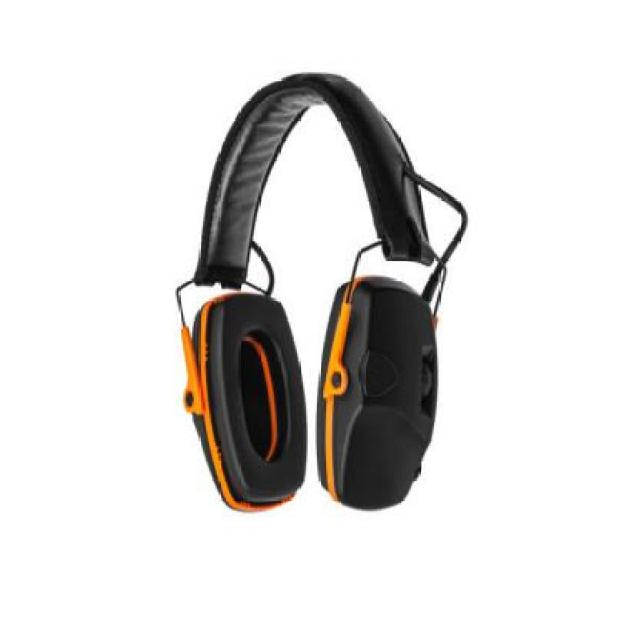Ear-protection: (185, 82, 452, 513)
